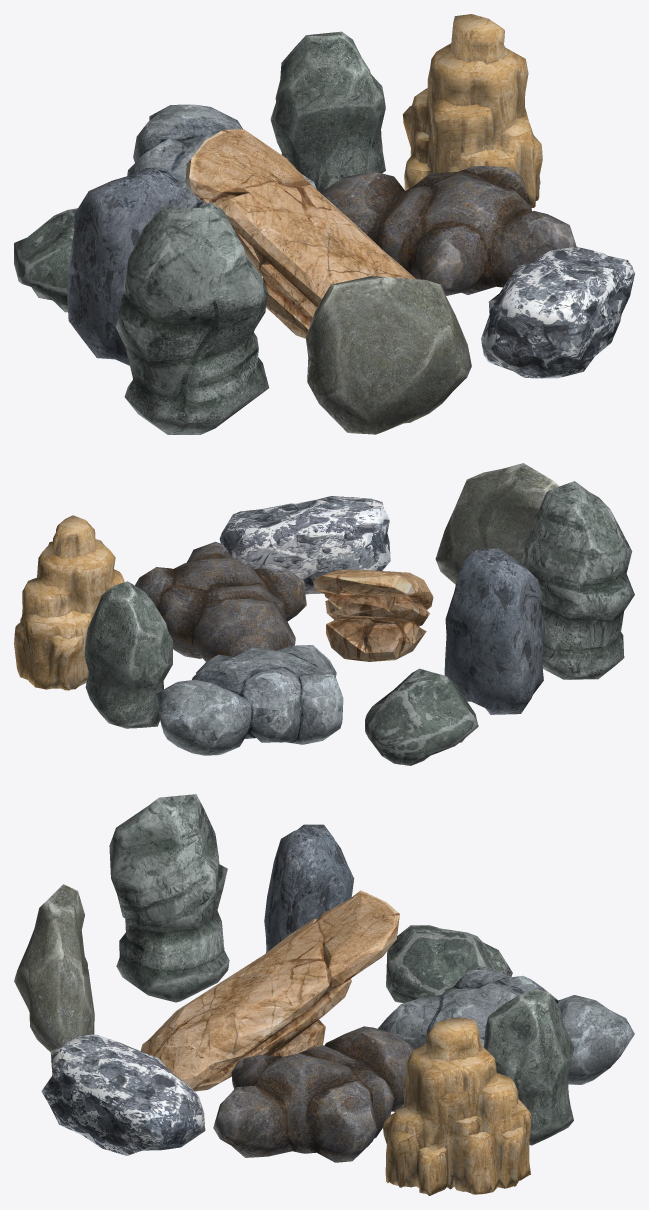
The model's file is stones.glb.
3 renders of one model, top to bottom at view 1: azimuth 30°, elevation 25°; view 2: azimuth 150°, elevation 25°; view 3: azimuth 270°, elevation 25°, orthographic. The views are drawn at different scales.
Parts seen in each view (by area): view 1: Rock_08_7, Rock_04_4, Rock_05S_9, Rock_06_5, Rock_07_6, Rock_03S_8, Rock_02_1, Rock_03_2, Rock_05_3, Rock_01_0; view 2: Rock_08_7, Rock_05_3, Rock_03_2, Rock_05S_9, Rock_07_6, Rock_03S_8, Rock_02_1, Rock_06_5, Rock_04_4, Rock_01_0; view 3: Rock_06_5, Rock_08_7, Rock_07_6, Rock_05S_9, Rock_03S_8, Rock_05_3, Rock_04_4, Rock_02_1, Rock_03_2, Rock_01_0.
Part boxes in pixels (x1,y1,x2,y2): Rock_08_7: (116, 202, 268, 434); Rock_04_4: (306, 276, 471, 434); Rock_05S_9: (321, 166, 576, 295); Rock_06_5: (185, 129, 415, 338); Rock_07_6: (402, 14, 542, 207); Rock_03S_8: (481, 246, 634, 378); Rock_02_1: (270, 31, 385, 192); Rock_03_2: (67, 168, 188, 365); Rock_05_3: (127, 104, 316, 275); Rock_01_0: (14, 208, 77, 312); Rock_08_7: (521, 481, 634, 679); Rock_05_3: (155, 645, 343, 755); Rock_03_2: (444, 548, 544, 714); Rock_05S_9: (135, 541, 306, 661); Rock_07_6: (14, 515, 124, 690); Rock_03S_8: (219, 496, 390, 594); Rock_02_1: (84, 581, 172, 728); Rock_06_5: (313, 569, 433, 661); Rock_04_4: (435, 463, 559, 584); Rock_01_0: (365, 668, 478, 765); Rock_06_5: (140, 890, 399, 1091); Rock_08_7: (109, 794, 229, 1002); Rock_07_6: (383, 1018, 531, 1195); Rock_05S_9: (213, 1026, 414, 1162); Rock_03S_8: (41, 1034, 205, 1155); Rock_05_3: (378, 966, 634, 1084); Rock_04_4: (14, 884, 94, 1051); Rock_02_1: (483, 988, 574, 1145); Rock_03_2: (264, 824, 354, 952); Rock_01_0: (386, 925, 512, 1003).
Size of the model in its own units: 59.52 by 22.39 by 63.47.
10 materials, 10 textured.
